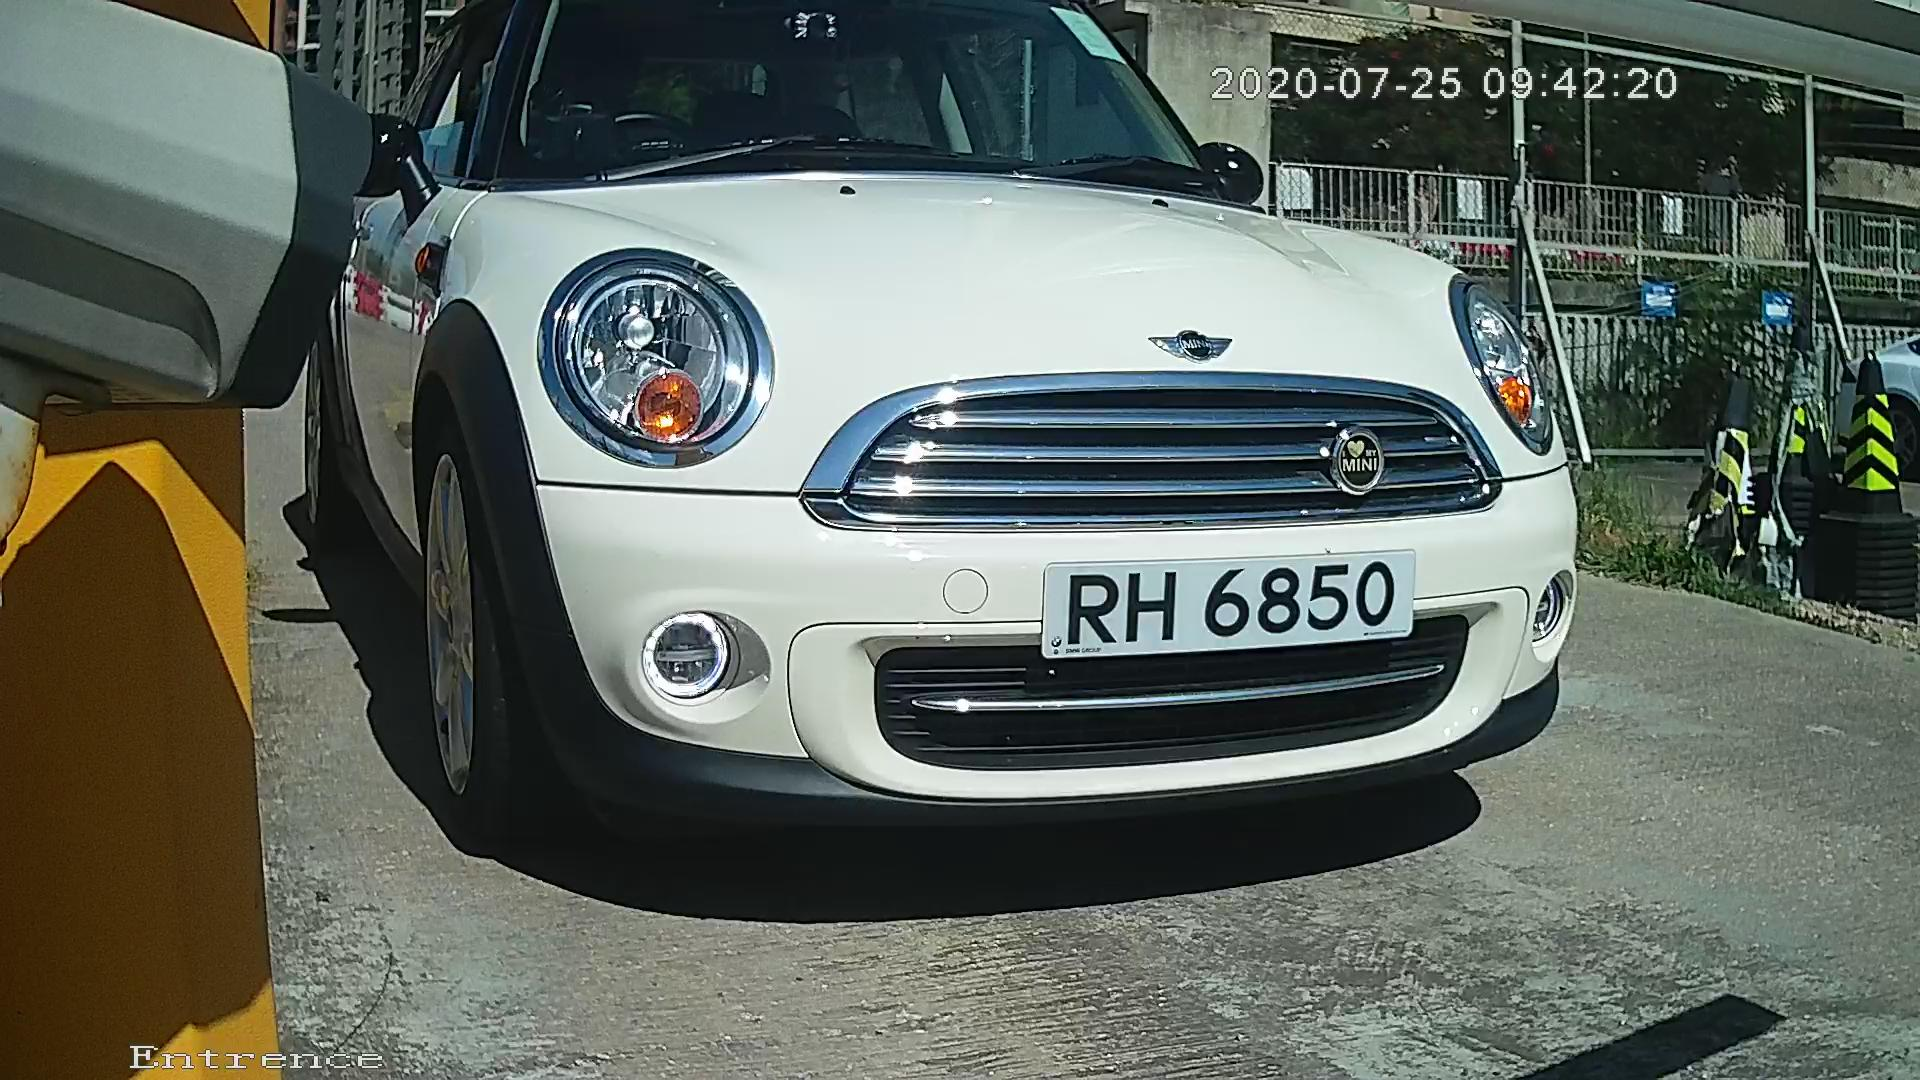Car: (198, 44, 1655, 897)
License Plate: (995, 545, 1441, 671)
